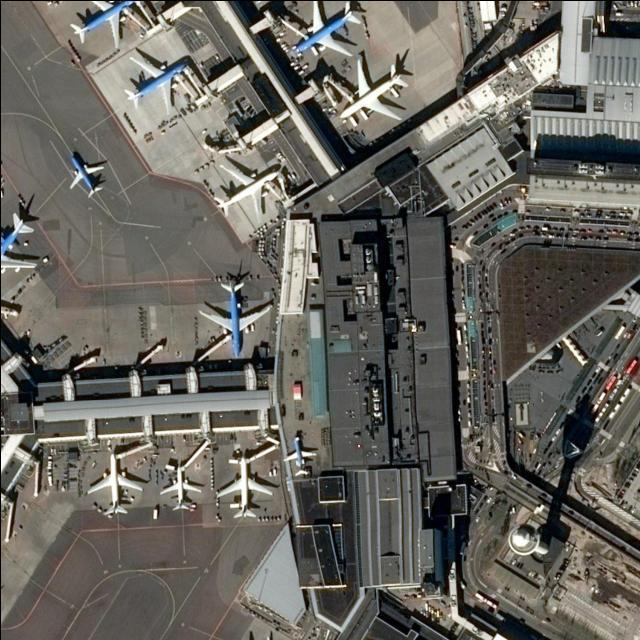Aircraft: (199, 276, 273, 354), (336, 53, 412, 121), (290, 0, 366, 58), (214, 157, 286, 218), (122, 53, 193, 111), (217, 451, 273, 520), (68, 0, 144, 49), (87, 451, 144, 516), (0, 204, 40, 286), (159, 461, 203, 511), (67, 150, 109, 197)
